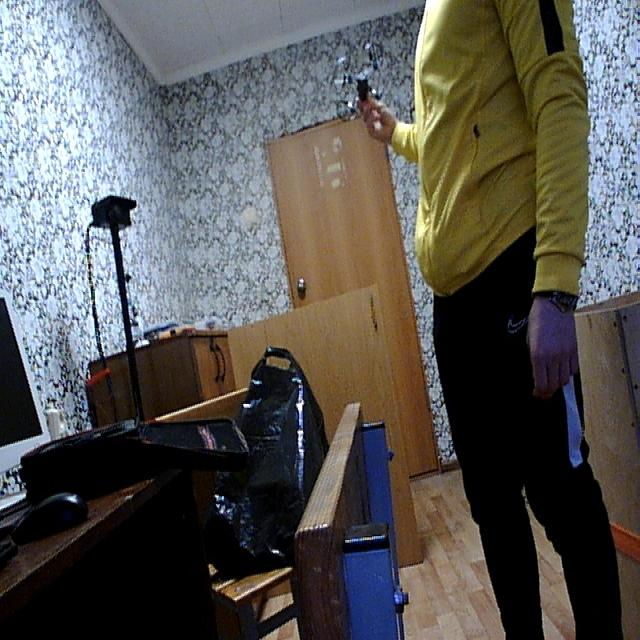drone: (327, 33, 396, 134)
